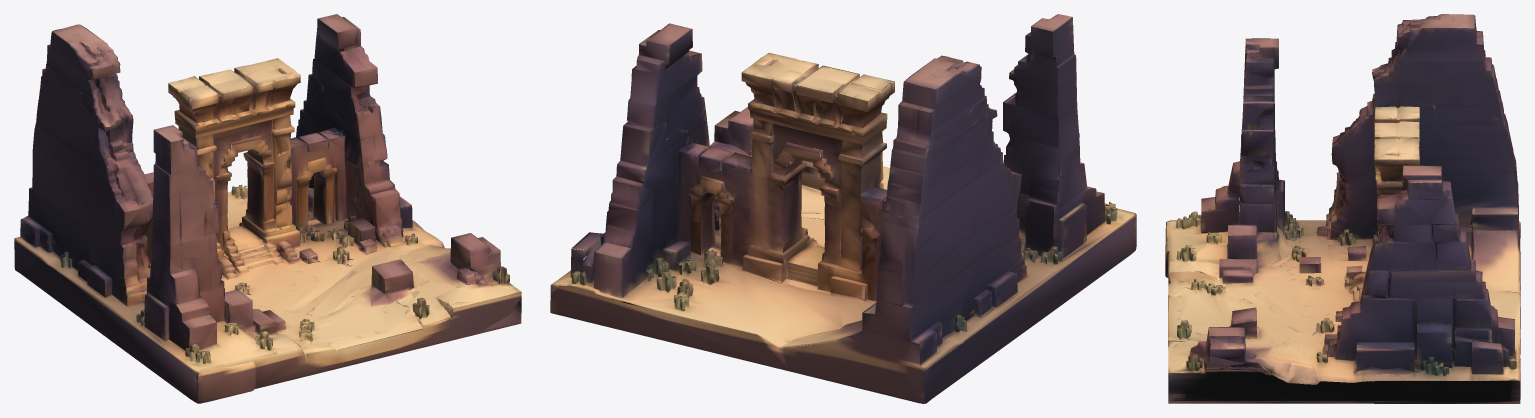
Rendered from desert_relic_with_gate_1.glb.
3 views of the same model, side by side, from view 1: azimuth 30°, elevation 25°; view 2: azimuth 150°, elevation 25°; view 3: azimuth 270°, elevation 25° (orthographic). The views are drawn at different scales.
Parts seen in each view (by area): view 1: node_0; view 2: node_0; view 3: node_0.
Boxes of the visible parts, x1=… form: node_0: x1=14, y1=14, x2=521, y2=403; node_0: x1=550, y1=14, x2=1136, y2=403; node_0: x1=1165, y1=14, x2=1520, y2=403.
Bounding box in the file's own units: 0.7619 × 0.5645 × 0.7454.
Materials: 1 (1 with a texture image).
